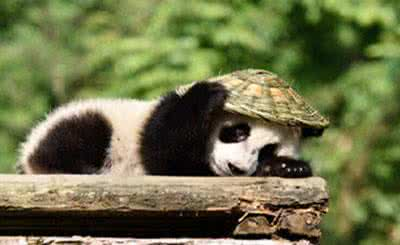panda: (17, 70, 316, 192)
